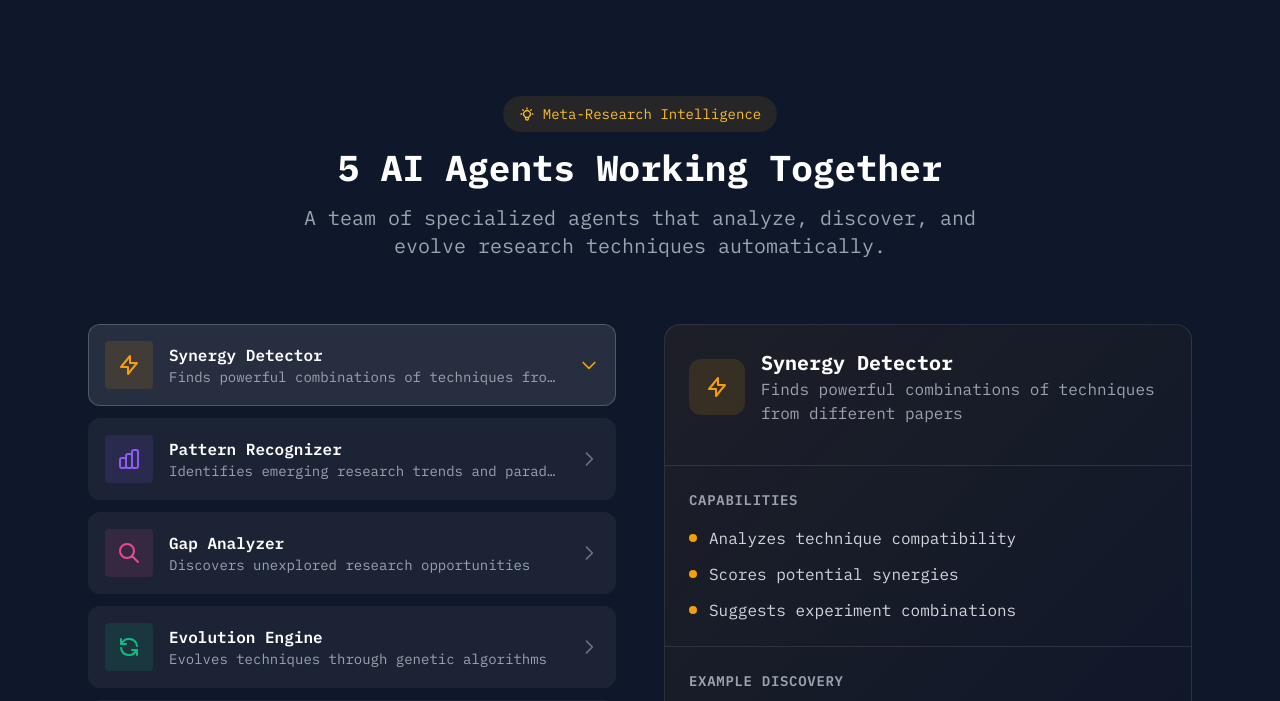
Test: MetaAgentFeature › Agent Selection › should switch to Pattern Recognizer when clicked
Find and click Pattern Recognizer
Click the button "Pattern Recognizer".
click(352, 459)  # box [88, 418, 616, 500]
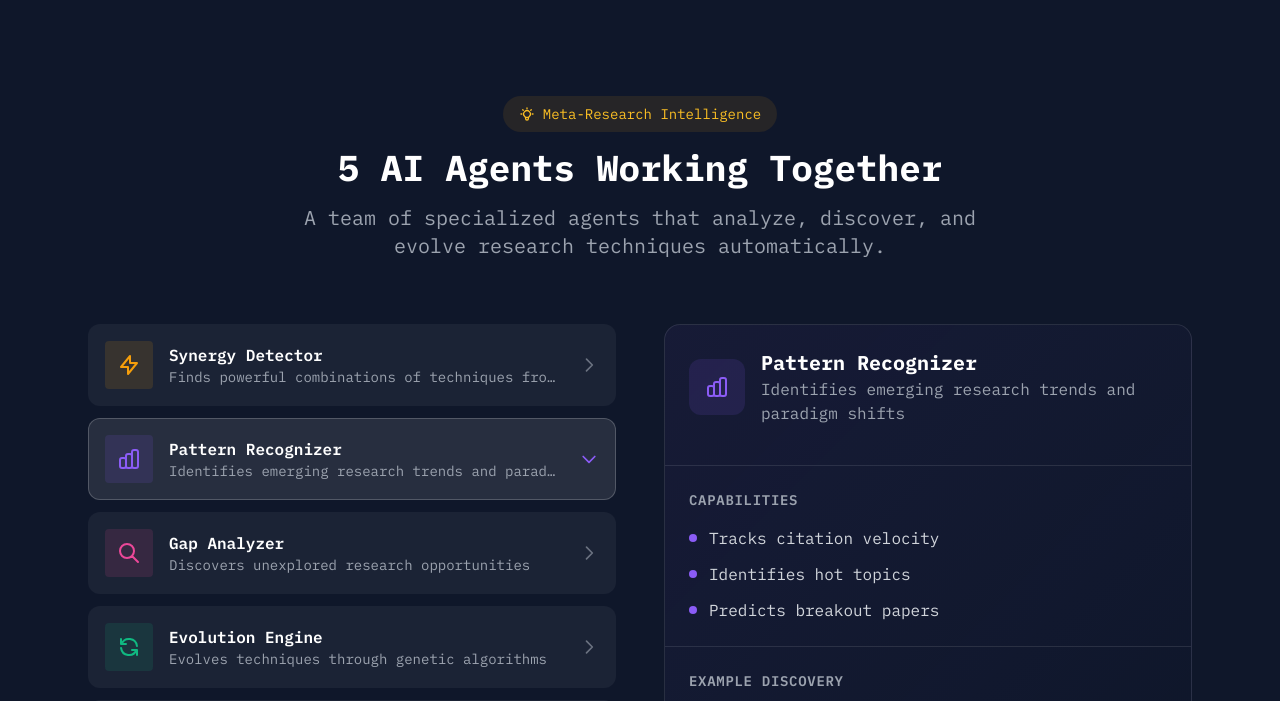
Now the text "Tracks citation velocity" is shown, box [709, 526, 939, 550]
